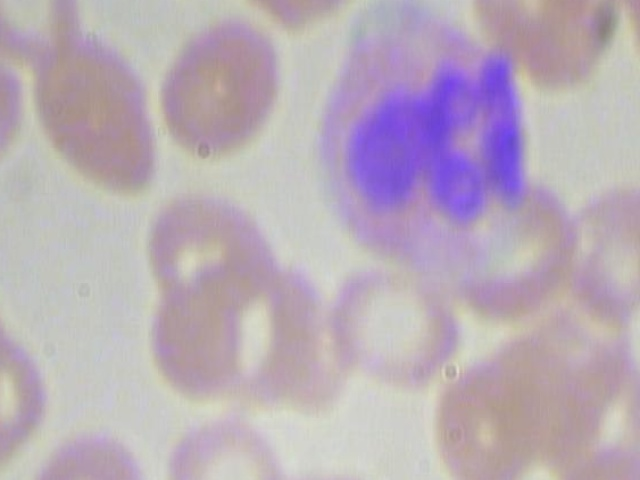RBC: (20, 20, 171, 203), (149, 15, 293, 172), (324, 250, 463, 396), (465, 0, 627, 98), (552, 167, 640, 328), (162, 404, 298, 480), (19, 418, 155, 480), (0, 0, 102, 65), (556, 442, 640, 480)
WBC: (299, 0, 534, 278)
